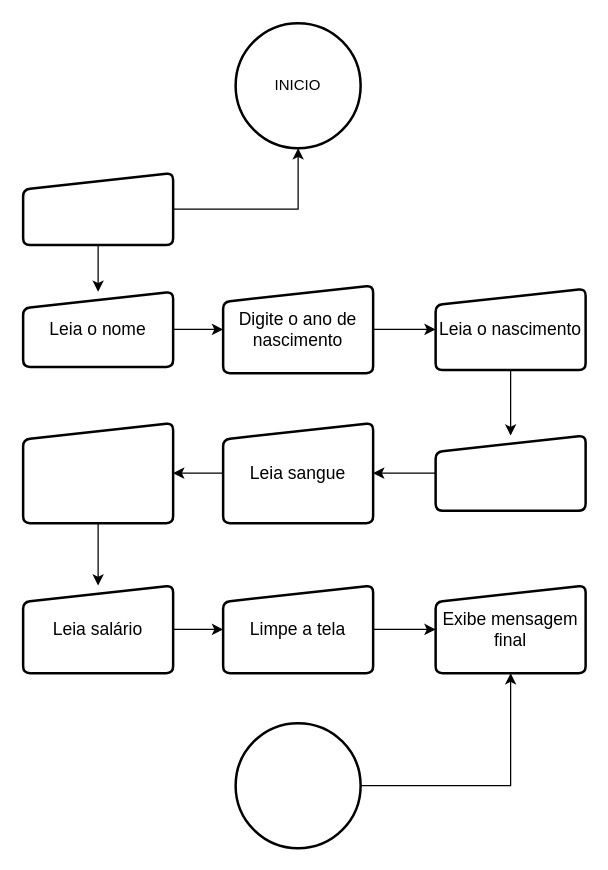
This 608x870 diagram has some shape labels left out. The box of each missing label's shape, as (x1, y1, x2, y2) in pixels:
Digite o seu nome: (21, 171, 174, 246)
Digite o seu tipo sanguíneo: (434, 434, 586, 511)
Fim: (234, 721, 361, 849)
Informe a sua renda mensal: (21, 421, 174, 524)
